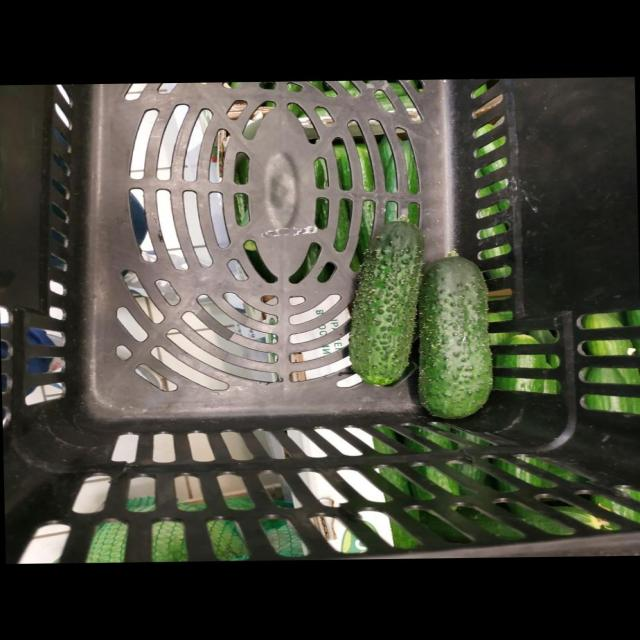Cucumber: (417, 254, 493, 418), (349, 220, 424, 385)
